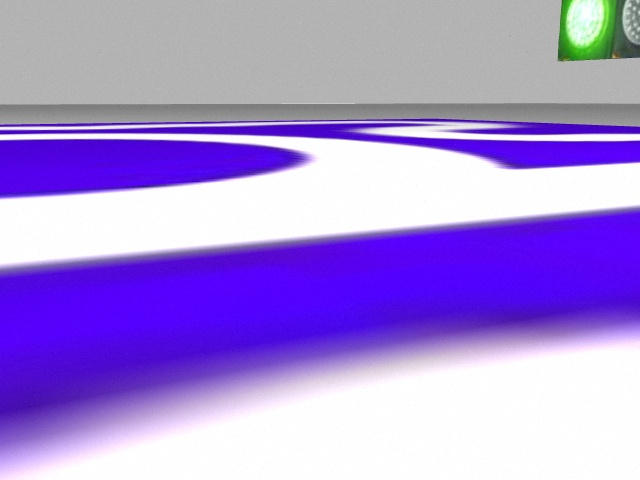green: (559, 2, 614, 62)
